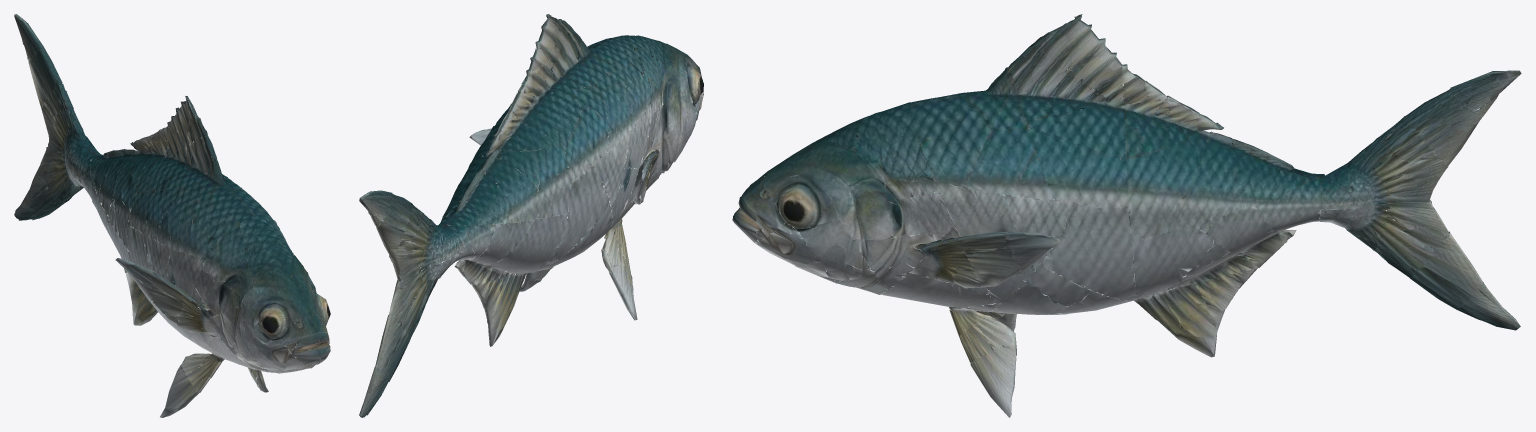
The model's file is marine.glb.
The picture shows the model from 3 angles, left to right: view 1: azimuth 30°, elevation 25°; view 2: azimuth 150°, elevation 25°; view 3: azimuth 270°, elevation 25°; orthographic projection. The views are drawn at different scales.
Visible parts, largest first — view 1: Mesh_0; view 2: Mesh_0; view 3: Mesh_0.
Part boxes in pixels (bbox=[...]): Mesh_0: bbox=[14, 14, 330, 417]; Mesh_0: bbox=[359, 14, 703, 417]; Mesh_0: bbox=[732, 14, 1521, 417].
Bounding box in the file's own units: 0.029 × 0.05 × 0.0968.
Materials: 1 (1 with a texture image).
